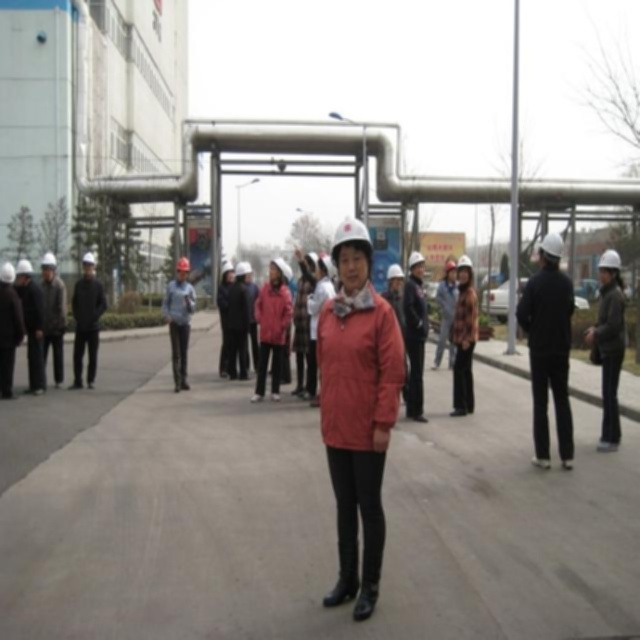Con_Casco: (332, 214, 370, 281), (537, 230, 566, 267), (599, 248, 622, 283)
Sin_Chaleco: (319, 290, 398, 444), (595, 284, 628, 357), (452, 287, 478, 349)
